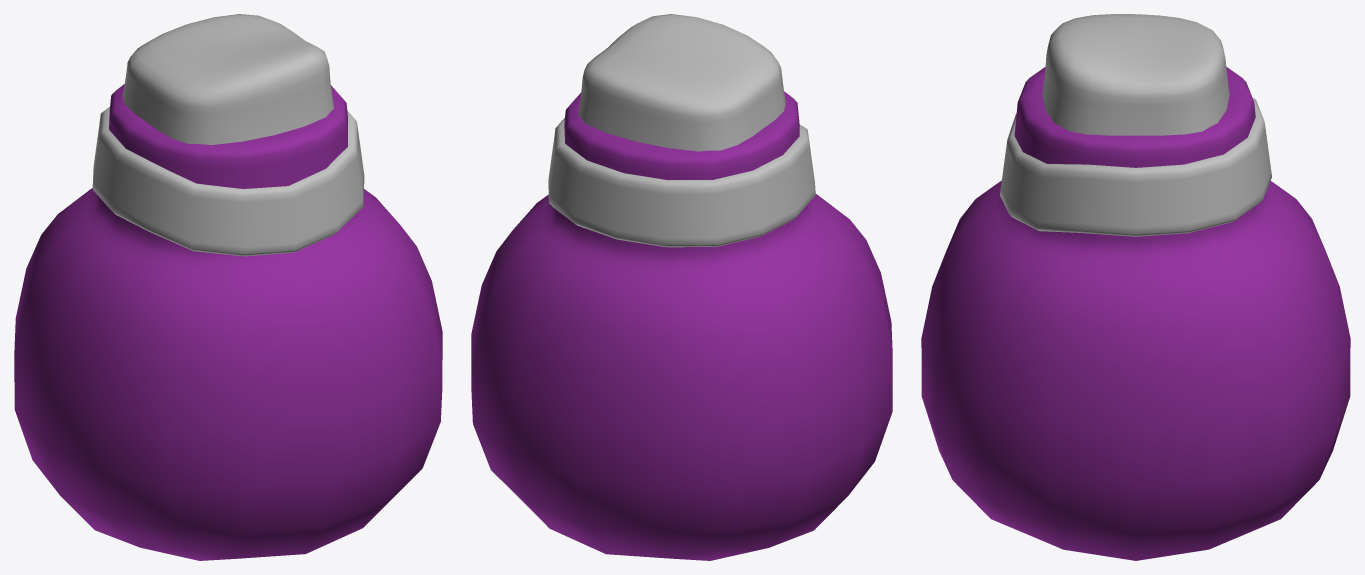
Rendered from FireBOMB.fbx.
3 views of the same model, side by side, from view 1: azimuth 30°, elevation 25°; view 2: azimuth 150°, elevation 25°; view 3: azimuth 270°, elevation 25° (orthographic). The views are drawn at different scales.
Visible parts, largest first — view 1: FireBOMB; view 2: FireBOMB; view 3: FireBOMB.
Part boxes in pixels (left/top/right/bottom): FireBOMB: left=14, top=14, right=442, bottom=560; FireBOMB: left=471, top=14, right=892, bottom=560; FireBOMB: left=921, top=14, right=1350, bottom=560.
Size of the model in its own units: 329 by 421 by 329.
